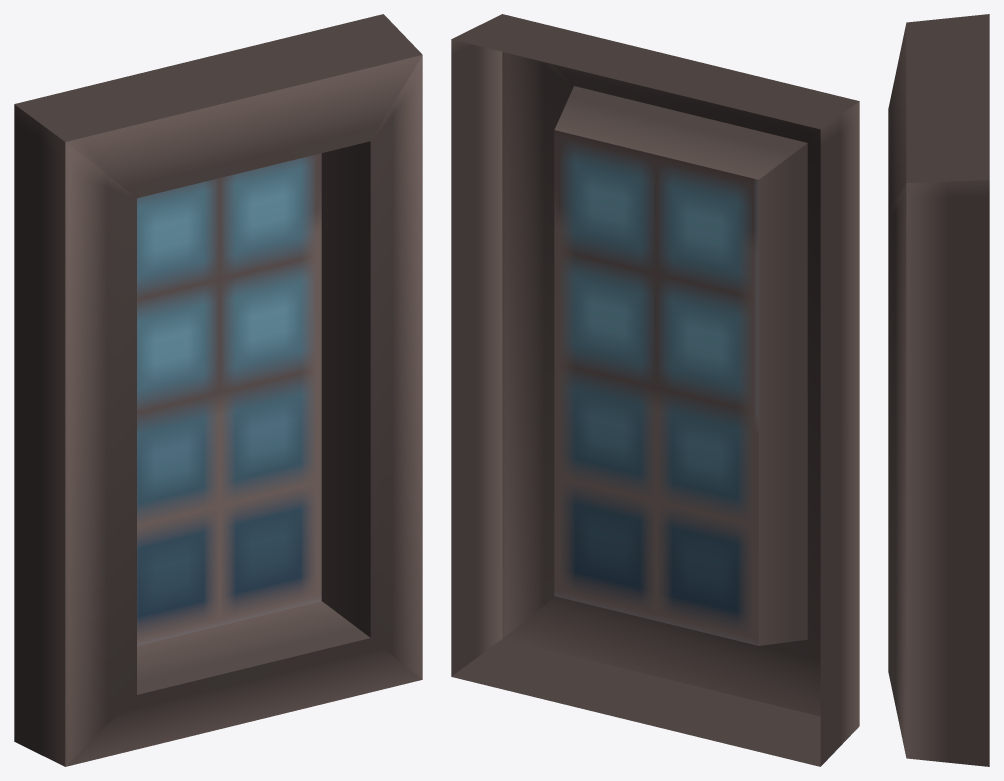
File: window_v3_001.fbx
The picture shows the model from 3 angles, left to right: view 1: azimuth 30°, elevation 25°; view 2: azimuth 150°, elevation 25°; view 3: azimuth 270°, elevation 25°; orthographic projection. The views are drawn at different scales.
Parts seen in each view (by area): view 1: window_v3_001; view 2: window_v3_001; view 3: window_v3_001.
Part boxes in pixels (bbox=[...]): window_v3_001: bbox=[14, 14, 422, 766]; window_v3_001: bbox=[451, 14, 859, 766]; window_v3_001: bbox=[888, 14, 989, 766].
Size of the model in its own units: 86.45 by 143 by 22.31.
